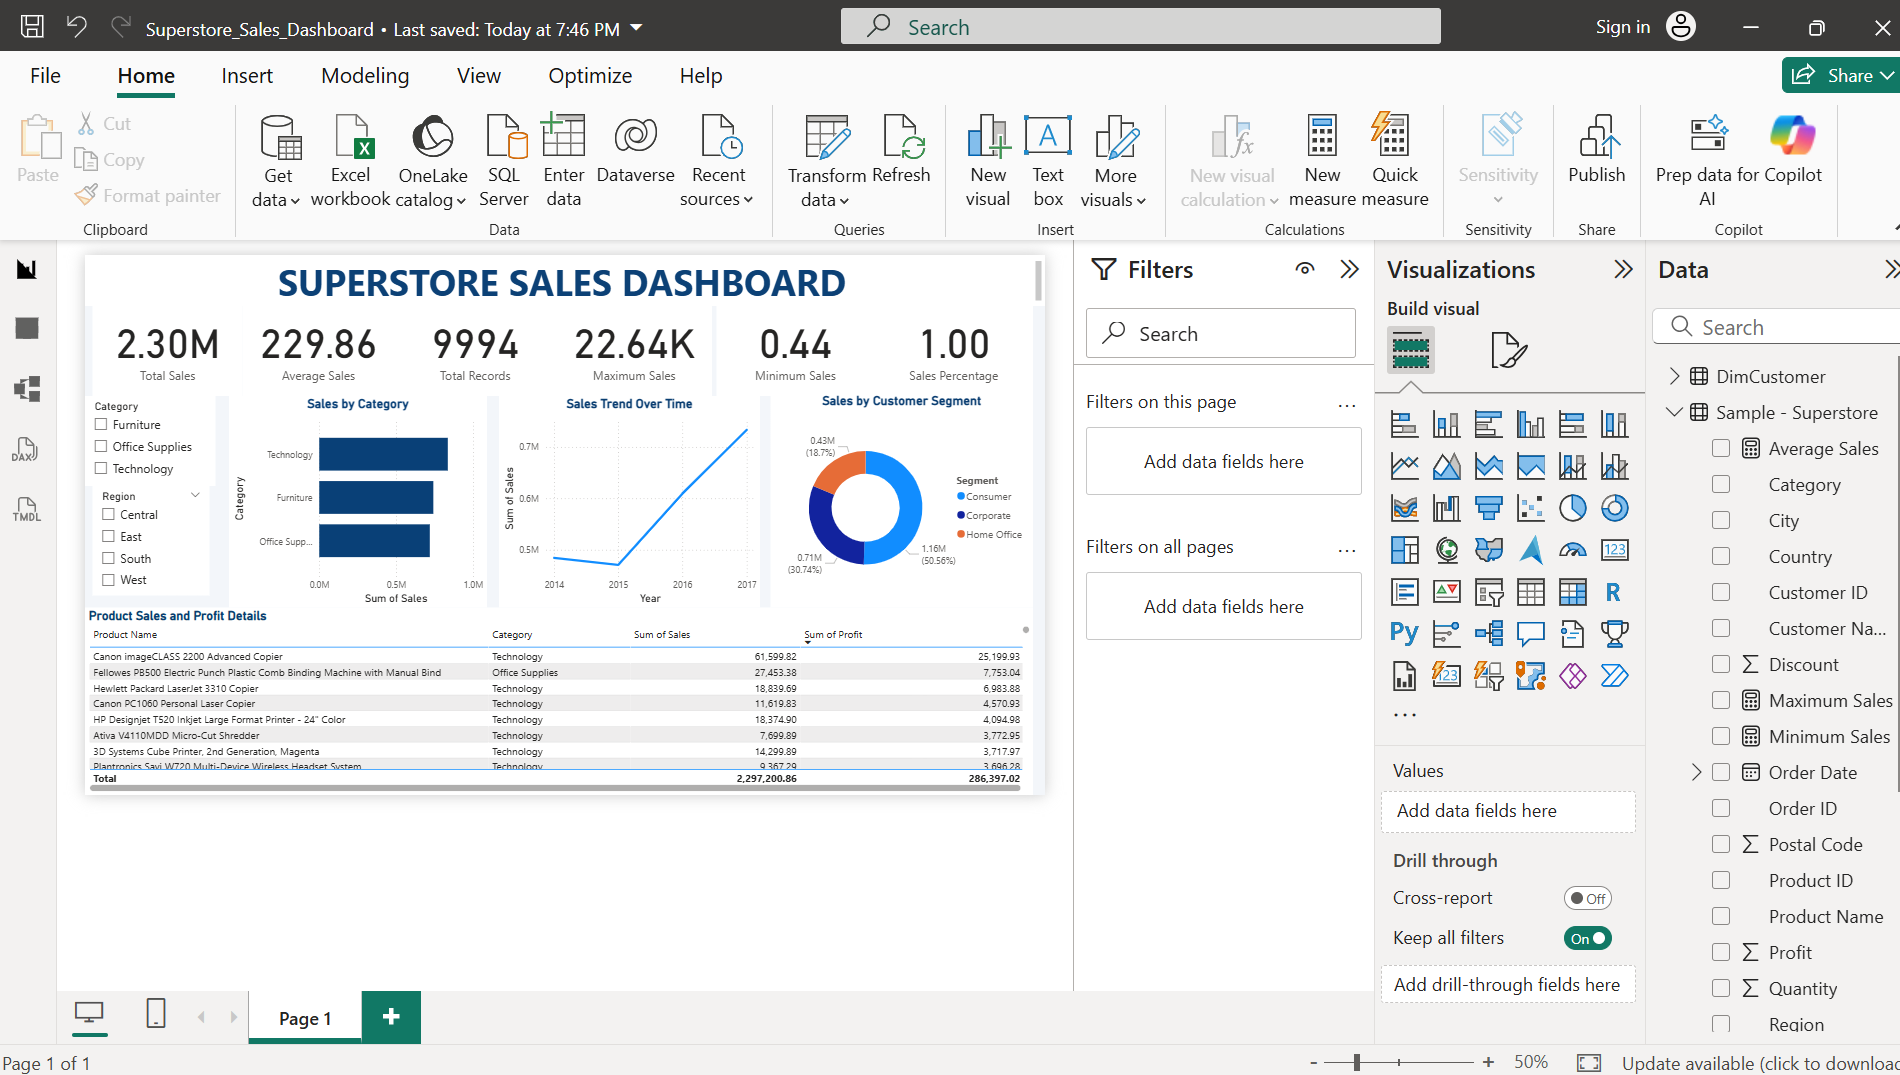

The page's visual inventory and layout, read from the dashboard file:
{"tool":"powerbi","page":{"name":"Page 1","canvas":[1280,720],"ordinal":0},"visuals":[{"type":"card","fields":{"Values":["Sample - Superstore.Total Sales"]},"box":[10,54,200,134],"z":0},{"type":"card","fields":{"Values":["Sample - Superstore.Average Sales"]},"box":[210,54,202,134],"z":1000},{"type":"card","fields":{"Values":["Sample - Superstore.Total Records"]},"box":[412,54,216,134],"z":2000},{"type":"card","fields":{"Values":["Sample - Superstore.Maximum Sales"]},"box":[628,54,208,134],"z":3000},{"type":"card","fields":{"Values":["Sample - Superstore.Minimum Sales"]},"box":[842,54,210,134],"z":4000},{"type":"card","fields":{"Values":["Sample - Superstore.Sales Percentage"]},"box":[1052,54,212,134],"z":5000},{"type":"clusteredBarChart","title":"Sales by Category","fields":{"Category":["Sample - Superstore.Category"],"Y":["Sum(Sample - Superstore.Sales)"]},"box":[192,188,344,282],"z":6000},{"type":"lineChart","title":"Sales Trend Over Time","fields":{"Category":["Sample - Superstore.Order Date.Variation.Date Hierarchy.Year"],"Y":["Sum(Sample - Superstore.Sales)"]},"box":[552,188,348,282],"z":7000},{"type":"donutChart","title":"Sales by Customer Segment","fields":{"Category":["Sample - Superstore.Segment"],"Y":["Sum(Sample - Superstore.Sales)"]},"box":[914,184,350,286],"z":8000},{"type":"tableEx","title":"Product Sales and Profit Details","fields":{"Values":["Sample - Superstore.Product Name","Sample - Superstore.Category","Sum(Sample - Superstore.Sales)","Sum(Sample - Superstore.Profit)"]},"box":[0,470,1264,250],"z":9000},{"type":"slicer","fields":{"Values":["Sample - Superstore.Category"]},"box":[0,188,174,120],"z":10000},{"type":"slicer","fields":{"Values":["Sample - Superstore.Region"]},"box":[10,308,156,146],"z":11000},{"type":"textbox","box":[0,0,1280,68],"z":11001}]}

Visuals, with their boxes on the page's 1280x720 design canvas (x1, y1, x2, y2). These are canvas units, not pixel positions in the 1900x1075 screenshot, which may show the page scaled, cropped or inside an application window:
card - Sample - Superstore.Total Sales: l=10, t=54, r=210, b=188
card - Sample - Superstore.Average Sales: l=210, t=54, r=412, b=188
card - Sample - Superstore.Total Records: l=412, t=54, r=628, b=188
card - Sample - Superstore.Maximum Sales: l=628, t=54, r=836, b=188
card - Sample - Superstore.Minimum Sales: l=842, t=54, r=1052, b=188
card - Sample - Superstore.Sales Percentage: l=1052, t=54, r=1264, b=188
"Sales by Category" clusteredBarChart: l=192, t=188, r=536, b=470
"Sales Trend Over Time" lineChart: l=552, t=188, r=900, b=470
"Sales by Customer Segment" donutChart: l=914, t=184, r=1264, b=470
"Product Sales and Profit Details" tableEx: l=0, t=470, r=1264, b=720
slicer - Sample - Superstore.Category: l=0, t=188, r=174, b=308
slicer - Sample - Superstore.Region: l=10, t=308, r=166, b=454
textbox: l=0, t=0, r=1280, b=68
